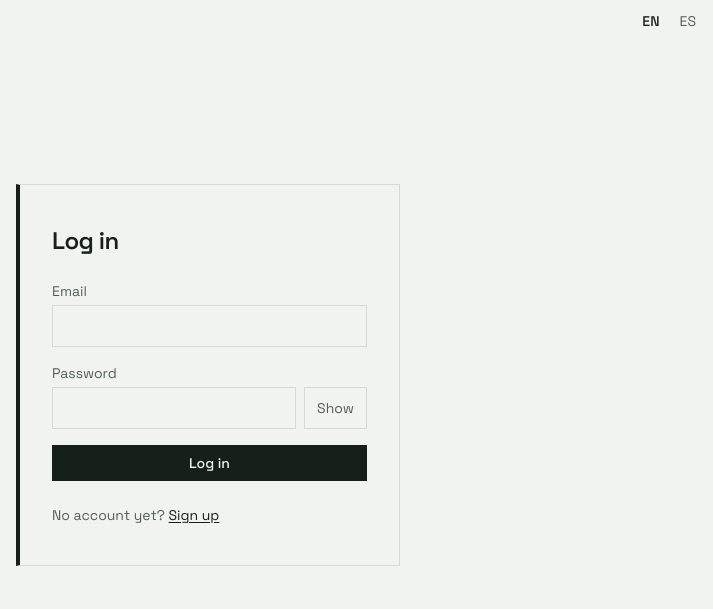
Test case: LoginPage › shows an error message when login fails
The image size is (713, 609).
Type "someone@example.com" into the field labelled "Email" at (210, 326), box [52,305,367,347]
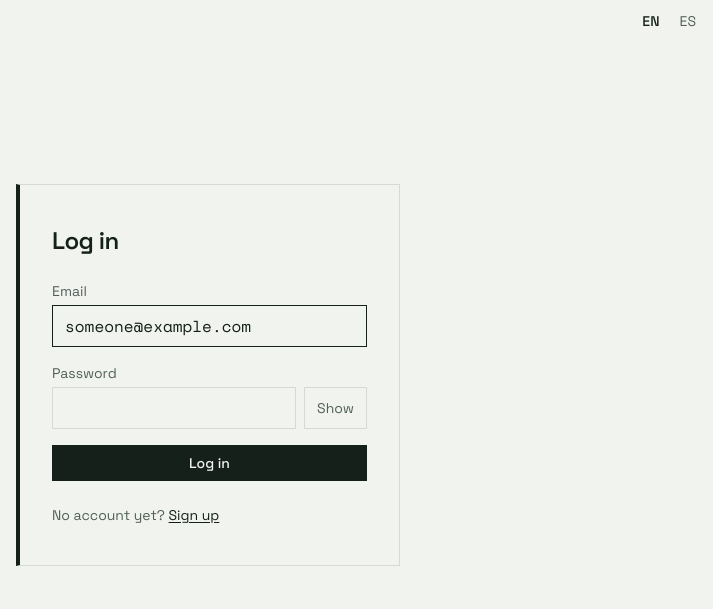
Type "wrong" into the password field labelled "Password" at (174, 408), box [52,387,296,429]
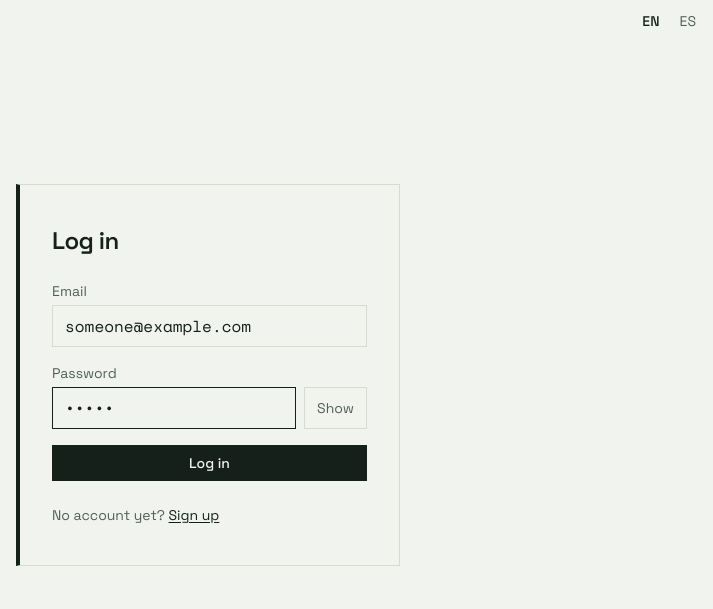
Click the button "Log in" at (210, 463), box [52,445,367,481]
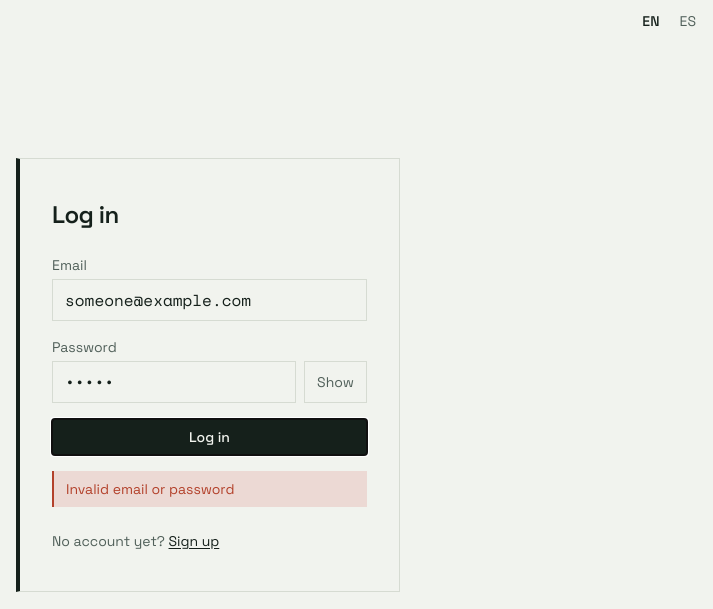
Expected: the message reads "Invalid email or password", [66,480,234,498]
